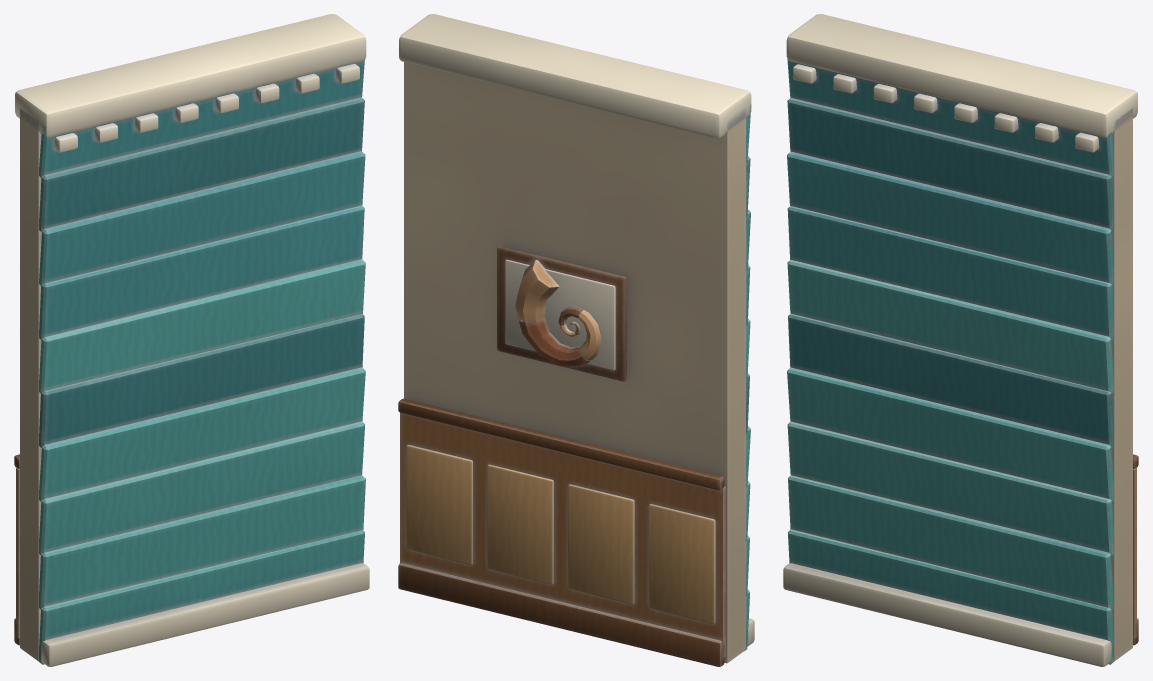
Rendered from wall_poster.glb.
3 renders of one model, left to right at view 1: azimuth 30°, elevation 25°; view 2: azimuth 150°, elevation 25°; view 3: azimuth 330°, elevation 25°, orthographic.
Parts seen in each view (by area): view 1: SM_WallPoster; view 2: SM_WallPoster; view 3: SM_WallPoster.
Part boxes in pixels (x1,y1,x2,y2): SM_WallPoster: (14, 14, 369, 666); SM_WallPoster: (398, 14, 754, 666); SM_WallPoster: (783, 14, 1138, 666).
Size of what is drawn, in the model's own units: 2 by 3.3 by 0.4796.
Materials: 1 (1 with a texture image).
